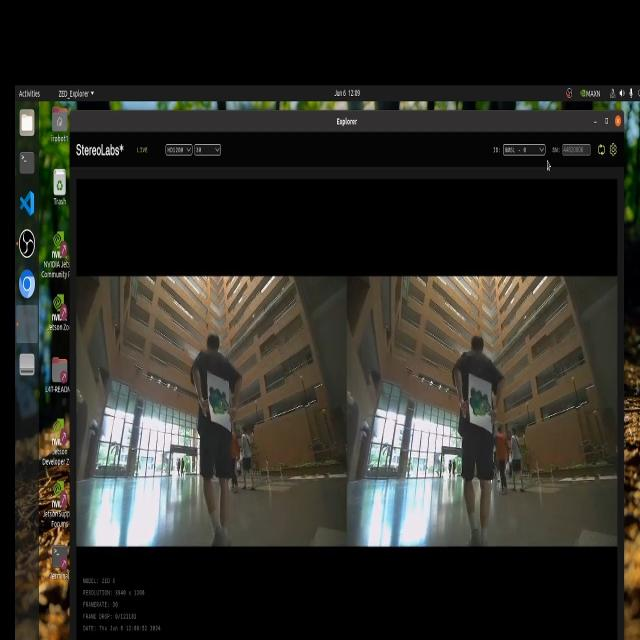green: (469, 385, 502, 419), (207, 388, 236, 426)
